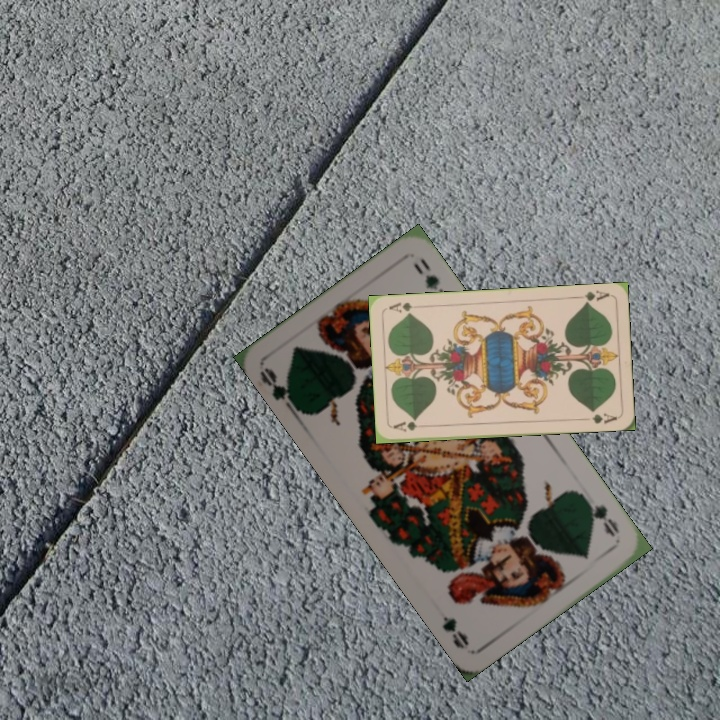GA: (572, 286, 612, 307), (390, 417, 430, 434)
GO: (256, 364, 304, 417), (579, 493, 623, 540)
